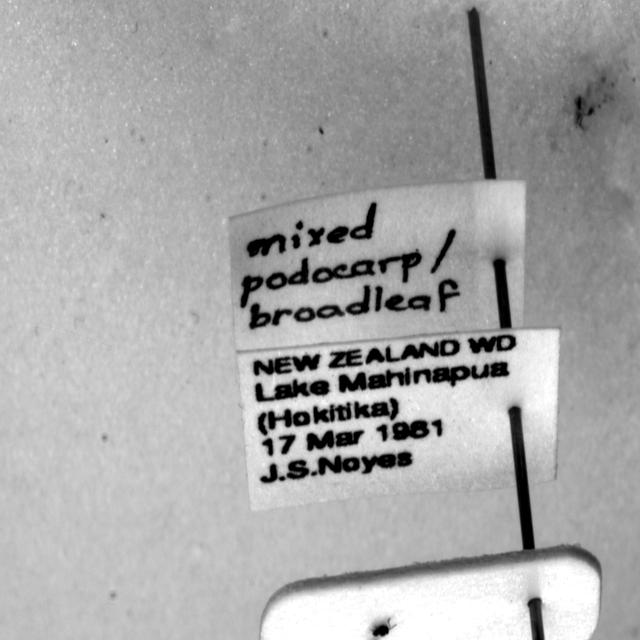hand_label: (229, 180, 526, 351)
typed_label: (238, 328, 560, 510)
